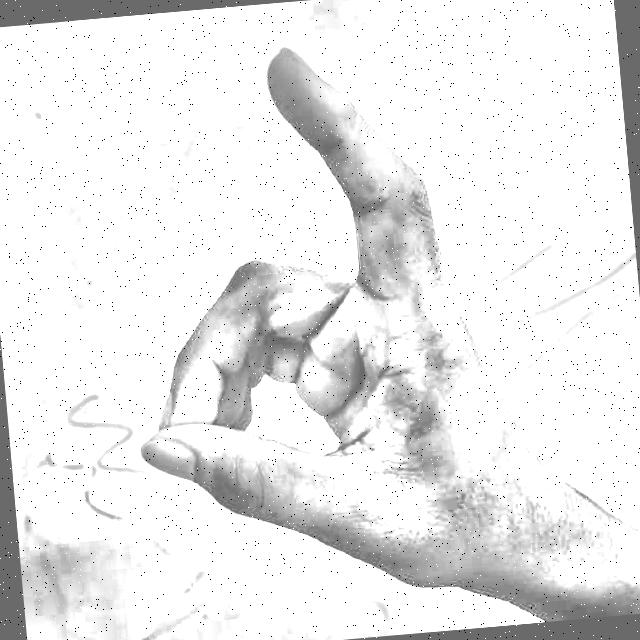Dha: (86, 10, 582, 640)
